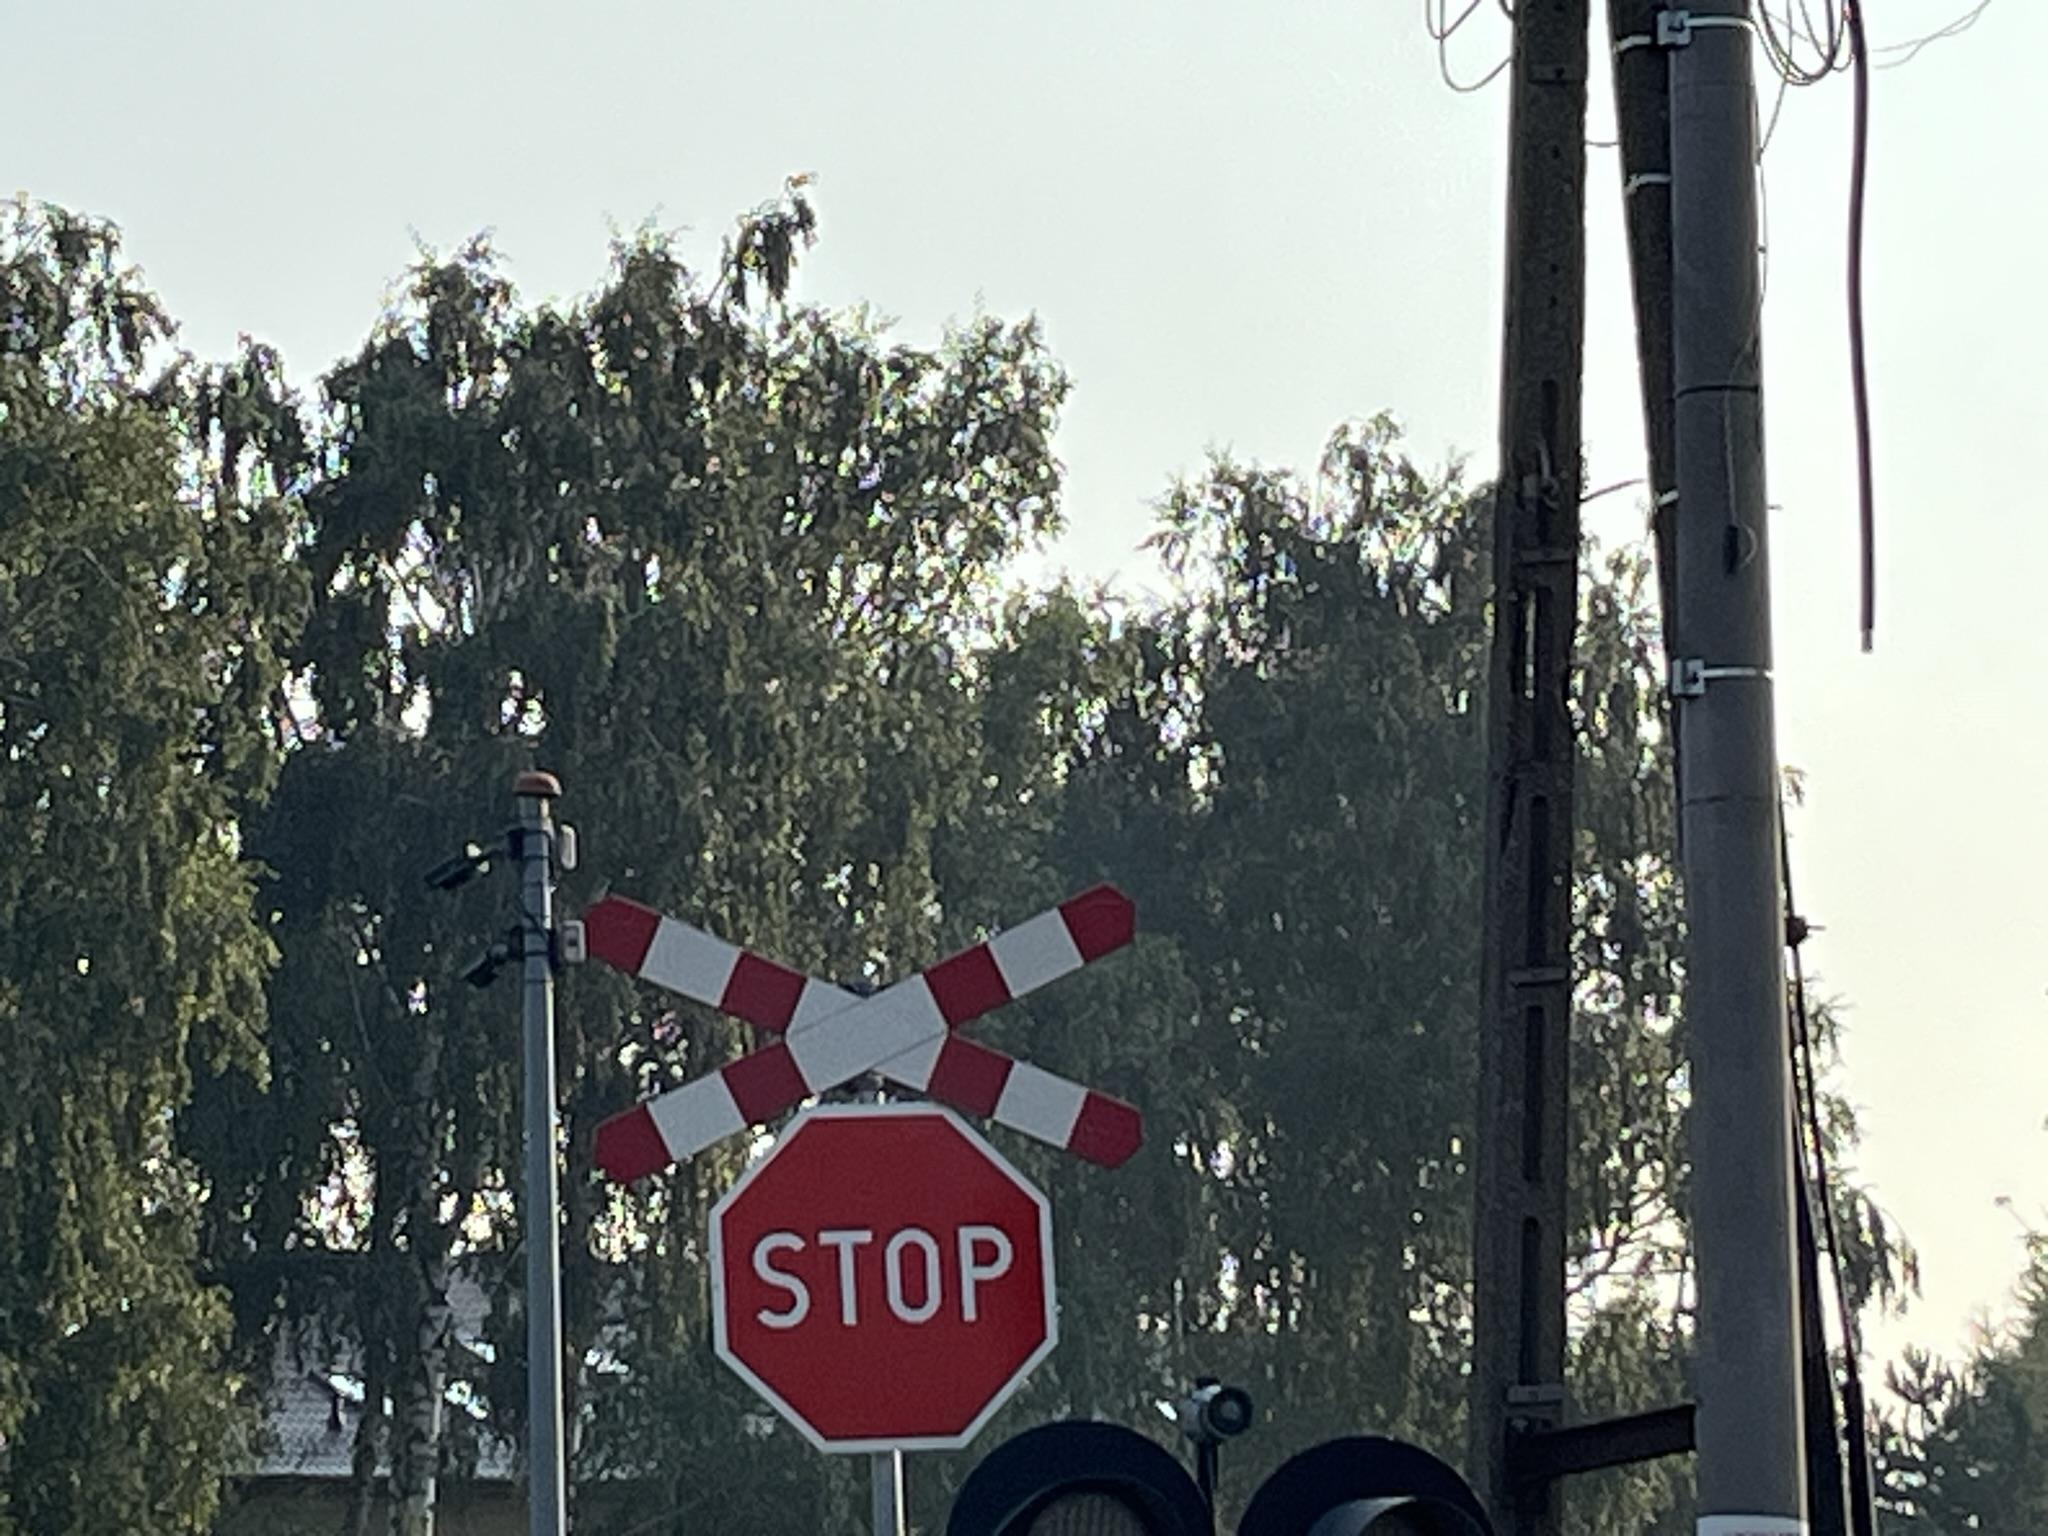prohibitory: (710, 1102, 1058, 1450)
